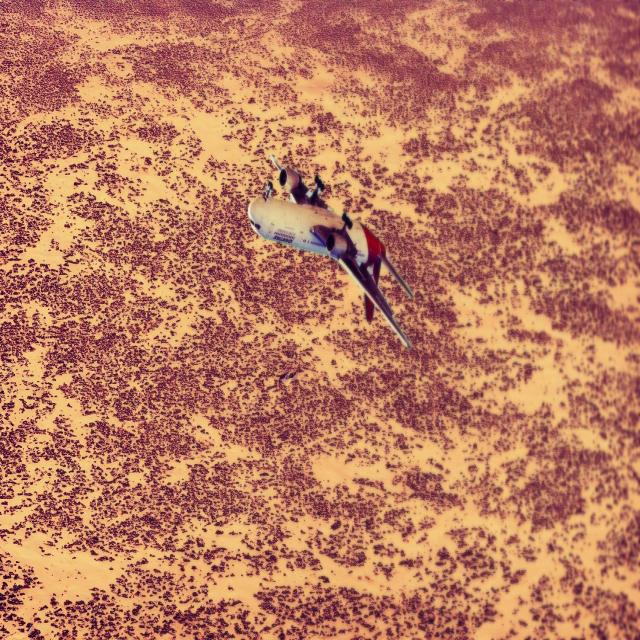airplane: (247, 153, 415, 352)
